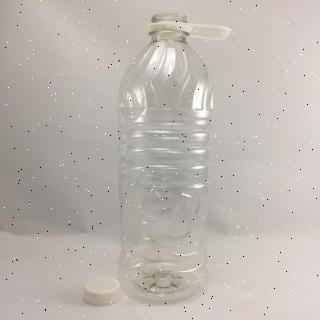Plastic-bottle: (114, 8, 223, 311)
